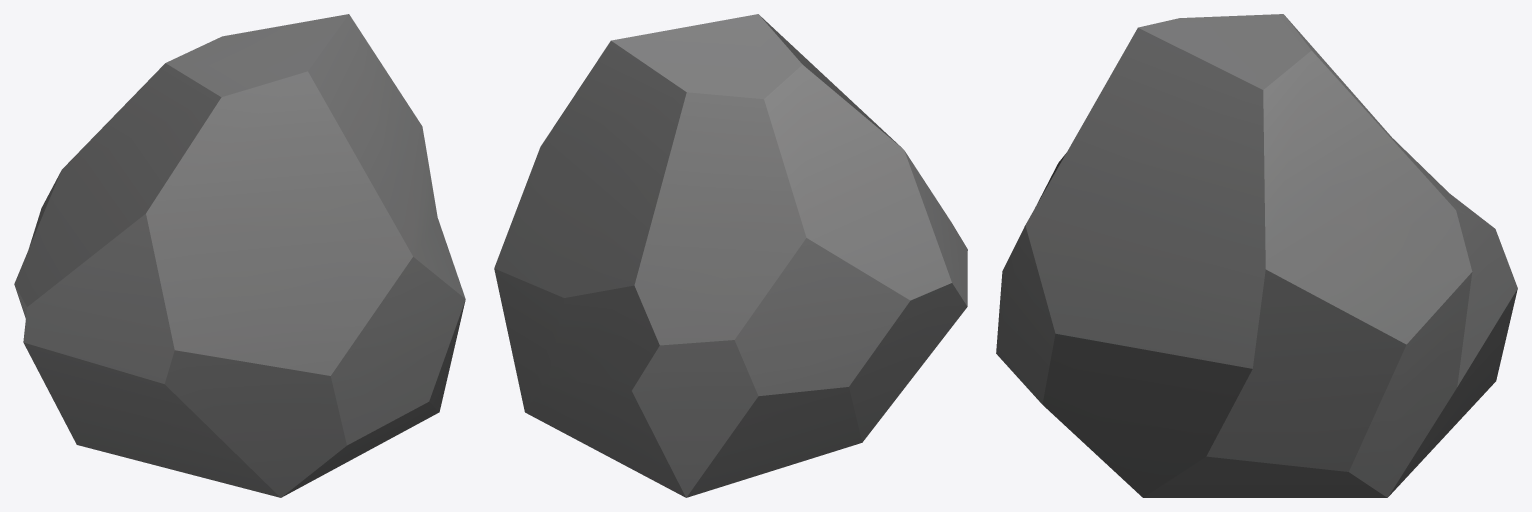
File: Rock001.fbx
3 renders of one model, left to right at view 1: azimuth 30°, elevation 25°; view 2: azimuth 150°, elevation 25°; view 3: azimuth 270°, elevation 25°, orthographic. The views are drawn at different scales.
Visible parts, largest first — view 1: Icosphere.001; view 2: Icosphere.001; view 3: Icosphere.001.
Part boxes in pixels (left/top/right/bottom): Icosphere.001: left=14, top=14, right=465, bottom=497; Icosphere.001: left=494, top=14, right=967, bottom=497; Icosphere.001: left=996, top=14, right=1517, bottom=497.
Size of the model in its own units: 232 by 190 by 224.
